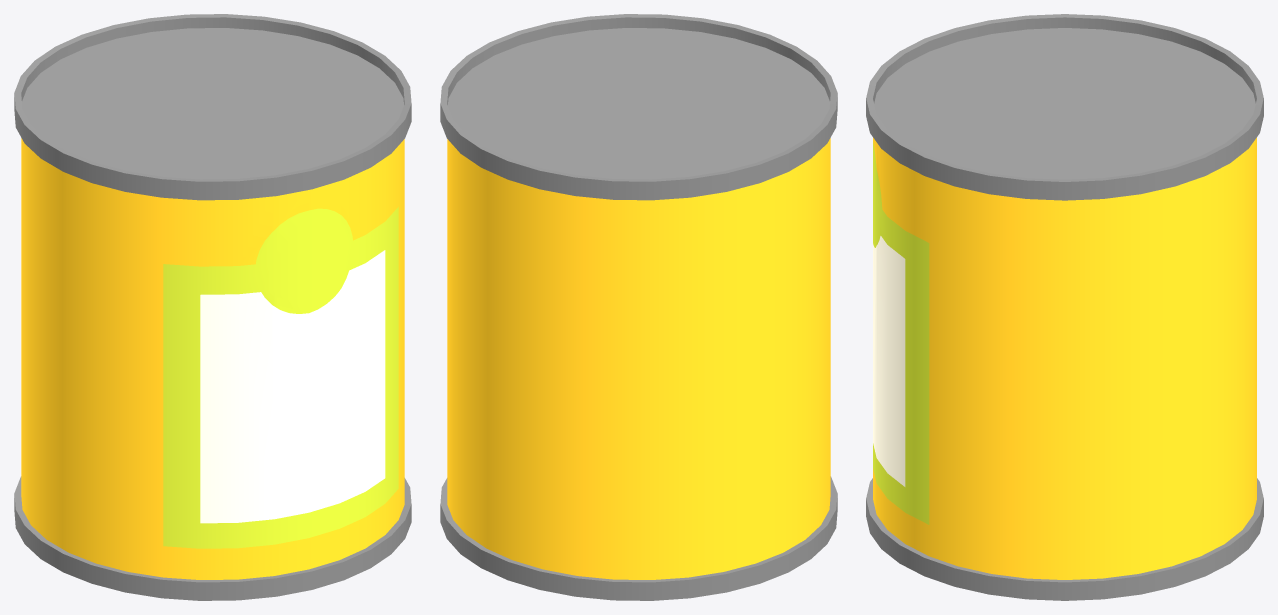
File: canned_food.gltf
3 renders of one model, left to right at view 1: azimuth 30°, elevation 25°; view 2: azimuth 150°, elevation 25°; view 3: azimuth 270°, elevation 25°, orthographic.
Parts seen in each view (by area): view 1: Cylinder.423; view 2: Cylinder.423; view 3: Cylinder.423.
Boxes of the visible parts, x1,y1,x2,y2 form: Cylinder.423: (14,14,411,600); Cylinder.423: (440,14,837,600); Cylinder.423: (866,14,1263,600).
Size of the model in its own units: 1.66 by 1.93 by 1.66.
Materials: 1 (1 with a texture image).
